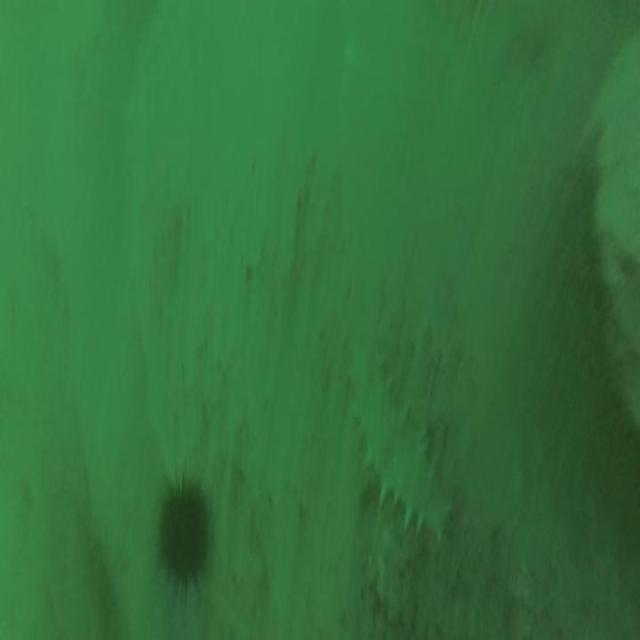echinus: (146, 460, 224, 618)
holothurian: (343, 327, 456, 544)
